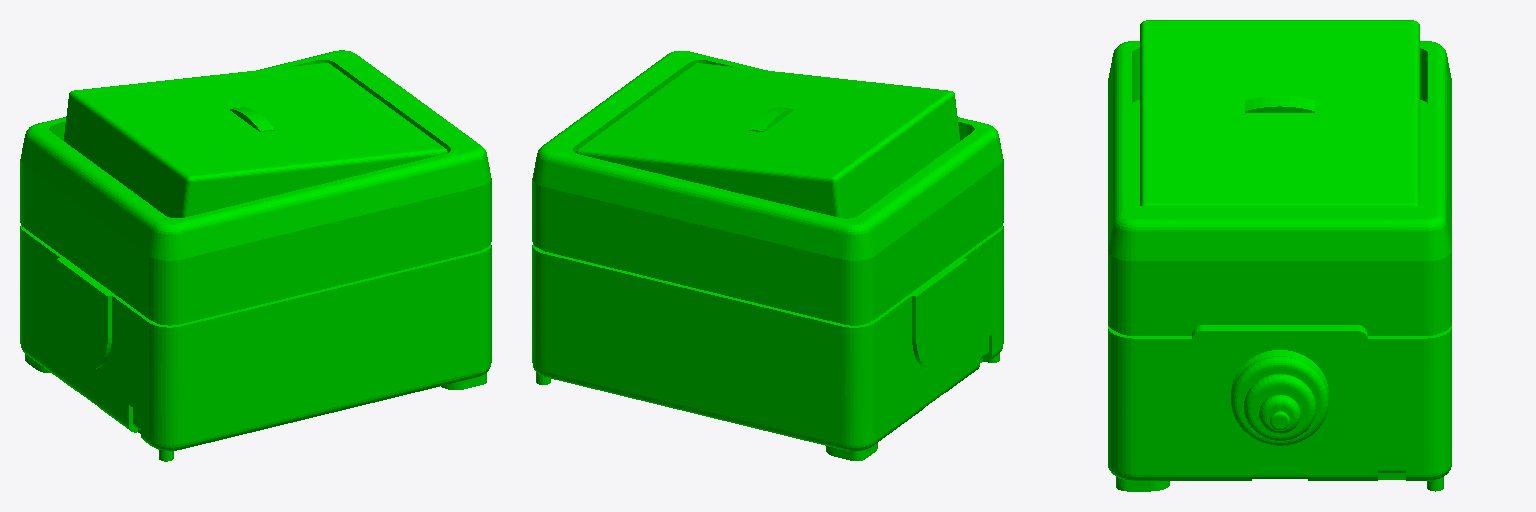
The robot description file, URDF, robot "obj_000026":
<?xml version="1.0" ?>
<robot name="obj_000026">
   <link name="base_link">
      <visual>
         <geometry>
            <mesh filename="package://agimus_demo_05_pick_and_place/urdf/tless/obj_26.obj" scale="0.001 0.001 0.001"/>
         </geometry>
         <material name="mat_part0">
            <color rgba="0.0 0.9 0.0 1.0"/>
         </material>
      </visual>
      <collision>
         <geometry>
            <mesh filename="package://agimus_demo_05_pick_and_place/urdf/tless/obj_26.obj" scale="0.001 0.001 0.001"/>
         </geometry>
      </collision>
      <inertial>
         <origin rpy="0 0 0" xyz="0.0 0.0 0.0"/>
         <mass value="0.1"/>
         <inertia ixx="1" ixy="0" ixz="0" iyy="1" iyz="0" izz="1"/>
      </inertial>
   </link>
</robot>

--- Render facts (derived) ---
Views: 3 orthographic renders of the robot side by side, from view 1: azimuth 30°, elevation 25°; view 2: azimuth 150°, elevation 25°; view 3: azimuth 270°, elevation 25°.
Model obj_000026 with 1 links and 0 joints (none), rooted at base_link, posed every joint at zero.
Visible links, largest first — view 1: base_link; view 2: base_link; view 3: base_link.
Boxes of the visible links, x1=… form: base_link: x1=20, y1=50, x2=491, y2=461; base_link: x1=532, y1=51, x2=1003, y2=460; base_link: x1=1108, y1=20, x2=1451, y2=491.
Size in the robot's own frame: 0.096 by 0.0615 by 0.0608 metres.
Meshes: 1 distinct files referenced, 1 mesh visuals loaded (1 OBJ).
